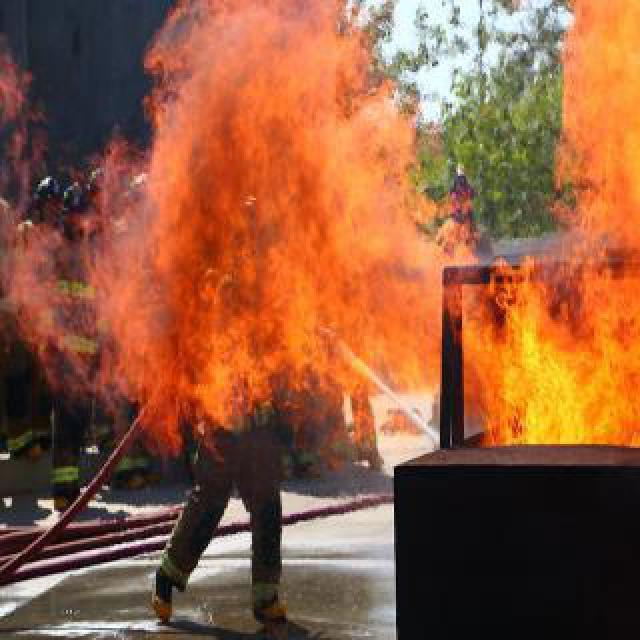Fire: (92, 1, 444, 450), (444, 258, 636, 456), (552, 0, 640, 261)
